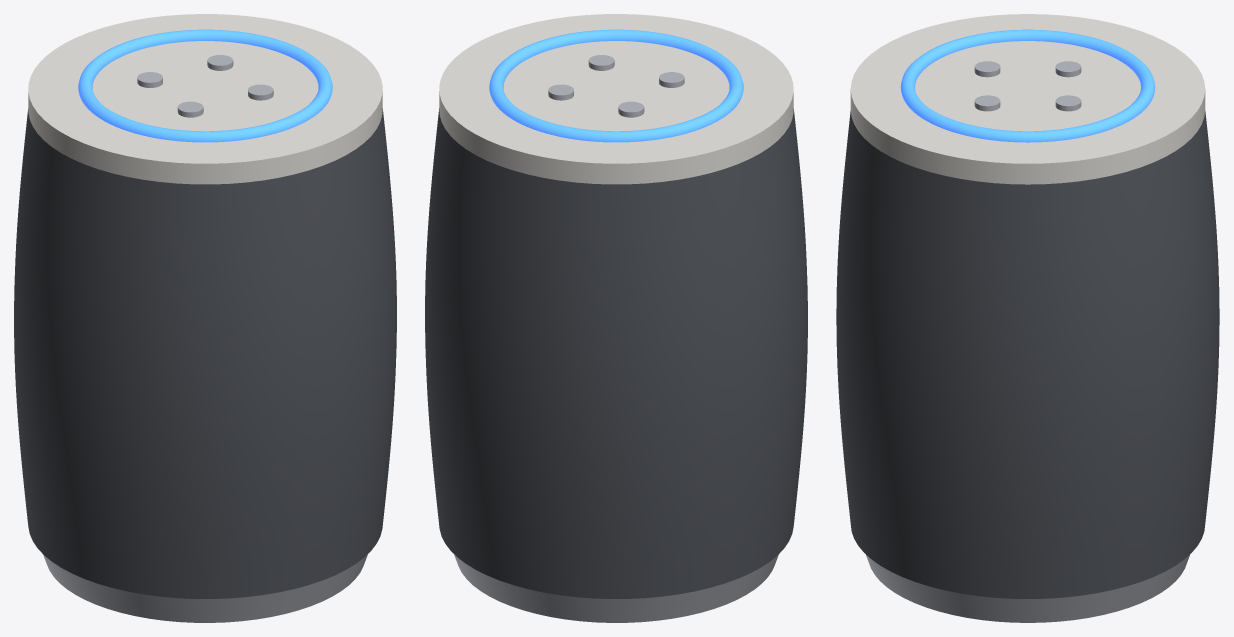
The model's file is speaker.glb.
3 views of the same model, side by side, from view 1: azimuth 30°, elevation 25°; view 2: azimuth 150°, elevation 25°; view 3: azimuth 270°, elevation 25° (orthographic).
Parts seen in each view (by area): view 1: Body, Cap, Ring, Base; view 2: Body, Cap, Ring, Base; view 3: Body, Cap, Ring, Base.
Boxes of the visible parts, x1,y1,x2,y2 form: Body: (14, 108, 396, 598); Cap: (28, 14, 382, 184); Ring: (78, 29, 332, 142); Base: (43, 554, 367, 622); Body: (425, 108, 807, 598); Cap: (439, 14, 793, 184); Ring: (489, 29, 743, 142); Base: (454, 554, 778, 622); Body: (836, 110, 1219, 598); Cap: (850, 14, 1205, 184); Ring: (900, 29, 1155, 142); Base: (866, 555, 1189, 622).
Size of the model in its own units: 1.34 by 1.83 by 1.34.
